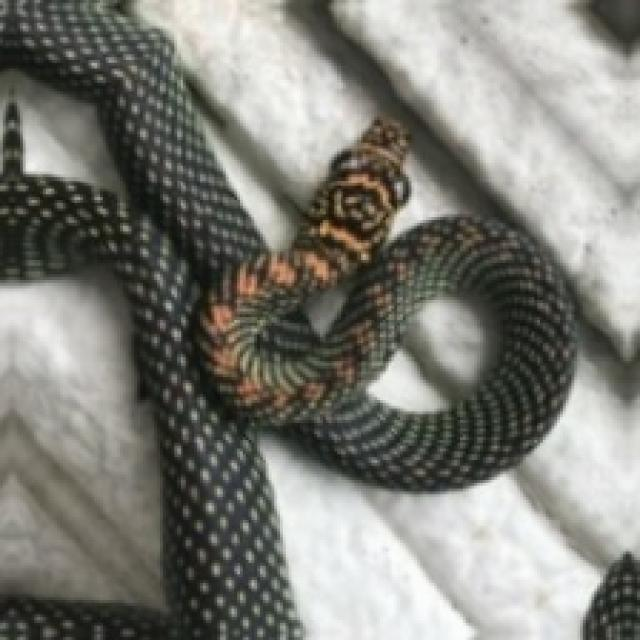paradise tree snake: (0, 0, 297, 637), (297, 217, 571, 486), (289, 126, 403, 271)
